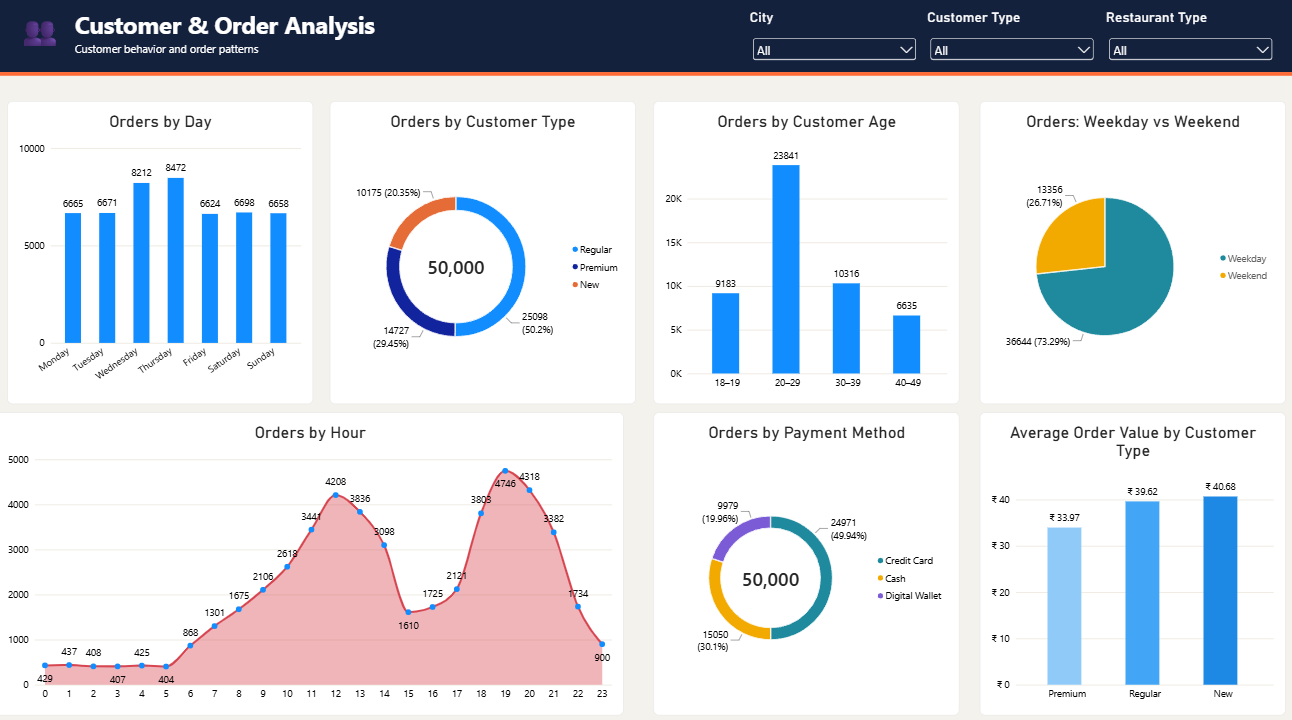

The dashboard page shown, as its layout file describes it:
{"tool":"powerbi","page":{"name":"Customer & Order Analysis","canvas":[1920,1080],"ordinal":1},"visuals":[{"type":"lineChart","title":"Orders by Hour","fields":{"Category":["food_delivery_orders_cleaned.order_hour"],"Y":["food_delivery_orders_cleaned.Total_Orders"]},"box":[0,612.9,924,446],"z":0},{"type":"clusteredColumnChart","title":"Orders by Day ","fields":{"Category":["Days.Day"],"Y":["food_delivery_orders_cleaned.Total_Orders"]},"box":[16.6,154.6,450,446],"z":1000},{"type":"donutChart","title":"Orders by Customer Type","fields":{"Category":["food_delivery_orders_cleaned.customer_type"],"Y":["food_delivery_orders_cleaned.Total_Orders"]},"box":[491.4,154.6,450,446],"z":2000},{"type":"clusteredColumnChart","title":"Orders by Customer Age","fields":{"Category":["food_delivery_orders_cleaned.Age Group"],"Y":["food_delivery_orders_cleaned.Total_Orders"]},"box":[968.1,154.6,450,446],"z":3000},{"type":"donutChart","title":"Orders by Payment Method","fields":{"Category":["food_delivery_orders_cleaned.payment_method"],"Y":["food_delivery_orders_cleaned.Total_Orders"]},"box":[968.1,612.9,450,446],"z":4000},{"type":"pieChart","title":"Orders: Weekday vs Weekend","fields":{"Category":["food_delivery_orders_cleaned.Day Type"],"Y":["food_delivery_orders_cleaned.Total_Orders"]},"box":[1448.5,154.6,450,446],"z":5000},{"type":"clusteredColumnChart","title":"Average Order Value by Customer Type","fields":{"Category":["food_delivery_orders_cleaned.customer_type"],"Y":["food_delivery_orders_cleaned.Average_Order_Value"]},"box":[1448.5,612.9,450,446],"z":6000},{"type":"textbox","box":[0,0,1920,112],"z":7000},{"type":"textbox","box":[0,112,1920,5],"z":8000},{"type":"textbox","box":[31.3,3.7,68.1,81],"z":9000},{"type":"textbox","box":[116,66,1000,34],"z":10000},{"type":"textbox","box":[116,18,1000,52],"z":11000},{"type":"slicer","title":"City","fields":{"Values":["food_delivery_orders_cleaned.city"]},"box":[1110,18,250,80],"z":12000},{"type":"slicer","title":"Customer Type","fields":{"Values":["food_delivery_orders_cleaned.customer_type"]},"box":[1372,18,250,80],"z":13000},{"type":"slicer","title":"Restaurant Type","fields":{"Values":["food_delivery_orders_cleaned.restaurant_type"]},"box":[1634,18,250,80],"z":14000}]}

Visuals, with their boxes in screenshot pixels (x1, y1, x2, y2), scaled from the page's 1920x1080 canvas onto the 1292x720 screenshot:
"Orders by Hour" lineChart: [0,409,622,706]
"Orders by Day " clusteredColumnChart: [11,103,314,400]
"Orders by Customer Type" donutChart: [331,103,633,400]
"Orders by Customer Age" clusteredColumnChart: [651,103,954,400]
"Orders by Payment Method" donutChart: [651,409,954,706]
"Orders: Weekday vs Weekend" pieChart: [975,103,1278,400]
"Average Order Value by Customer Type" clusteredColumnChart: [975,409,1278,706]
textbox: [0,0,1291,75]
textbox: [0,75,1291,78]
textbox: [21,2,67,56]
textbox: [78,44,751,67]
textbox: [78,12,751,47]
"City" slicer: [747,12,915,65]
"Customer Type" slicer: [923,12,1091,65]
"Restaurant Type" slicer: [1100,12,1268,65]
